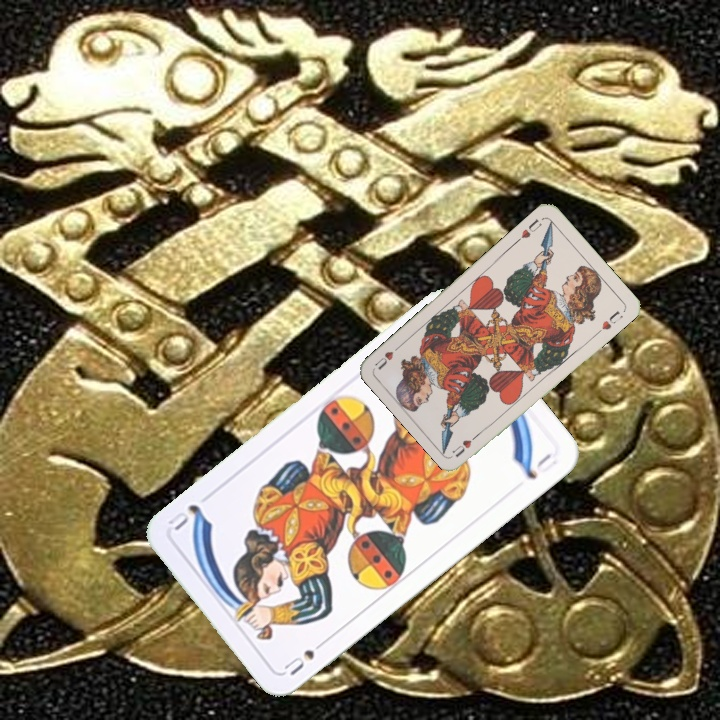HU: (448, 428, 483, 460), (512, 215, 544, 245)
SU: (280, 634, 330, 678)
